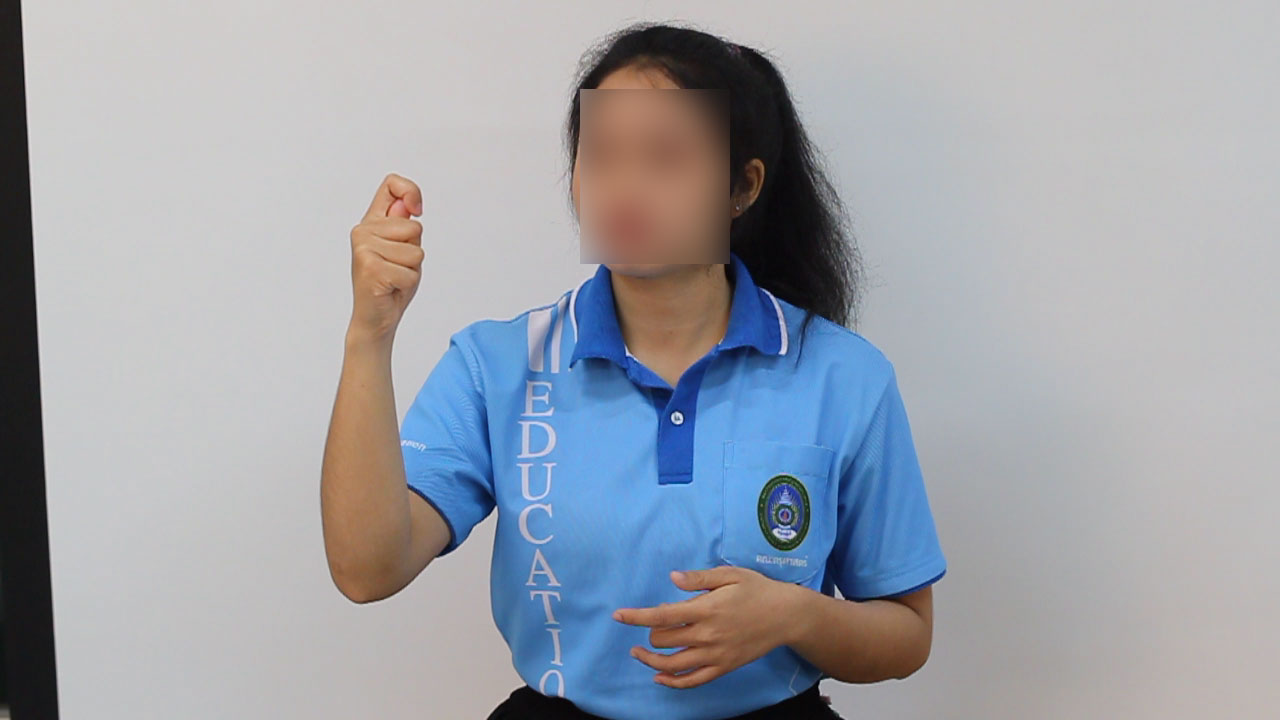or: (340, 163, 433, 339)
